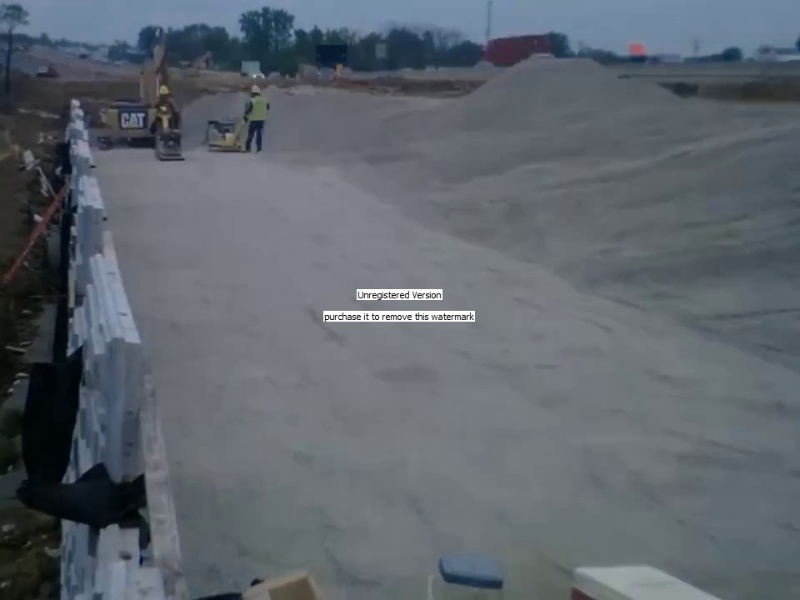excavator: (96, 43, 174, 150)
hardhat: (249, 85, 264, 96), (156, 87, 172, 96)
person: (242, 84, 269, 154), (151, 84, 180, 148)
wall: (58, 98, 192, 600)
